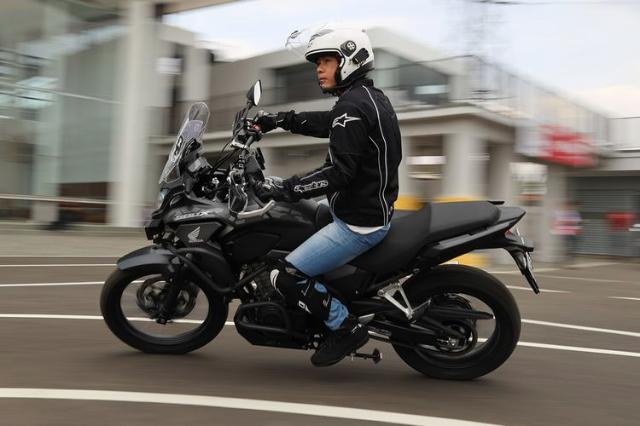helm: (288, 21, 381, 100)
motor: (96, 79, 545, 388)
